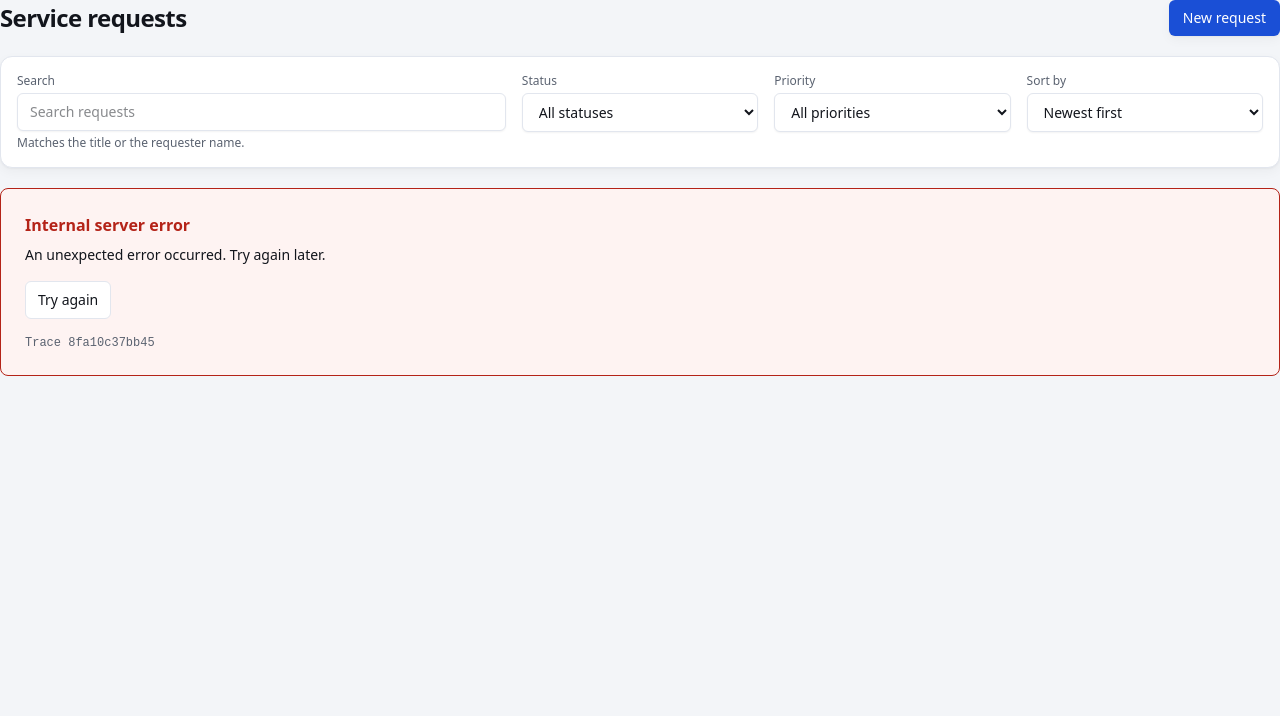
RequestsListPage › reports a failing list request and retries on demand
Expected: the message shows "Internal server error", [25,214,190,236]
Expected: the message shows "8fa10c37bb45", [68,336,155,350]
Click the button "Try again".
click(68, 300)  # box [25,281,111,319]
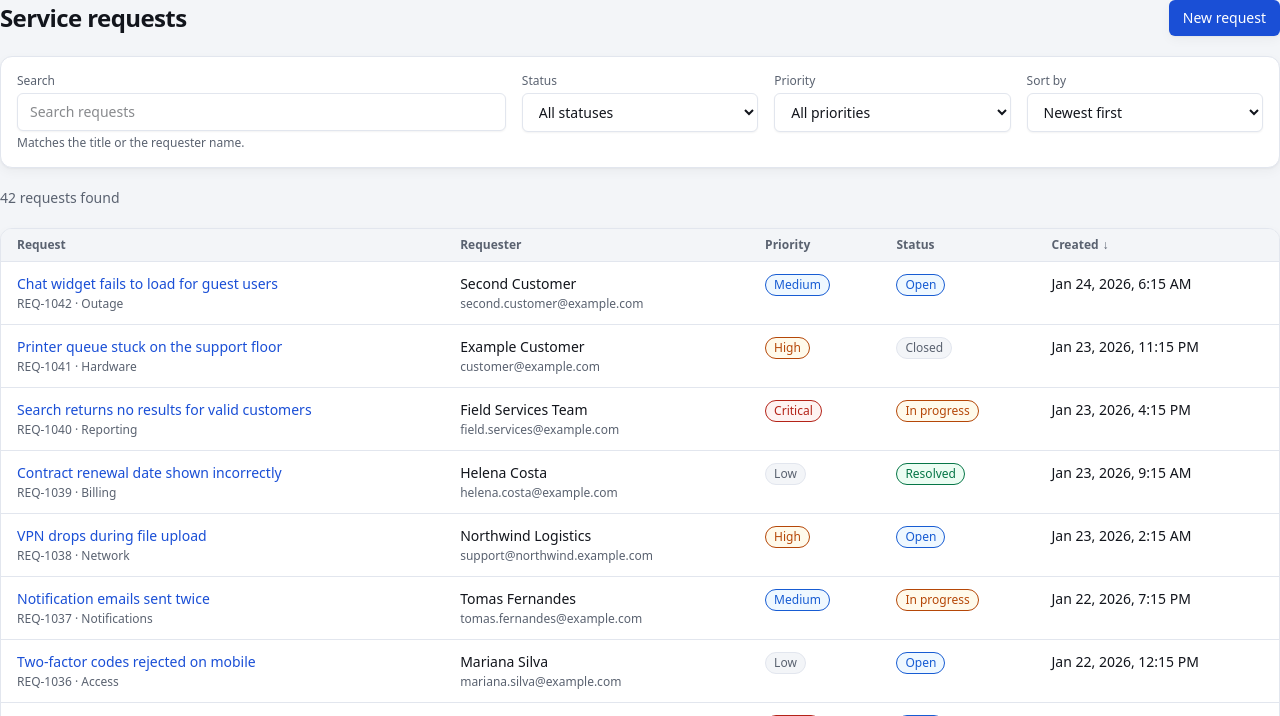
Now the message reads "42 requests found", box [0,188,120,207]
